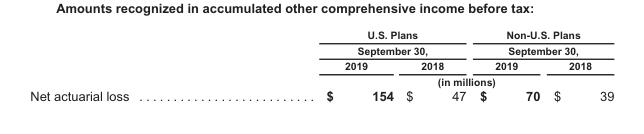table: (29, 28, 613, 102)
table column: (29, 28, 226, 102), (226, 28, 399, 102), (472, 28, 546, 102), (399, 28, 472, 102), (546, 28, 613, 102)
table column header: (29, 28, 613, 87)
table row: (29, 28, 613, 57), (29, 57, 613, 73), (29, 87, 613, 102), (29, 73, 613, 87)
table spanning cell: (226, 28, 472, 57), (226, 73, 613, 87), (472, 28, 613, 57)
